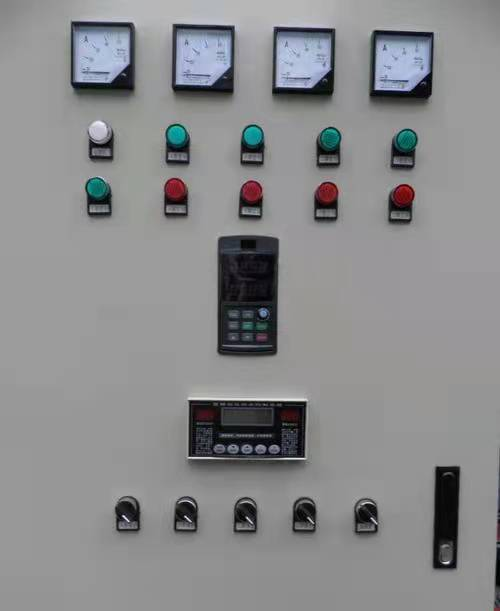pointer: (172, 23, 234, 89), (273, 28, 335, 92), (372, 31, 434, 94), (70, 22, 132, 84)
